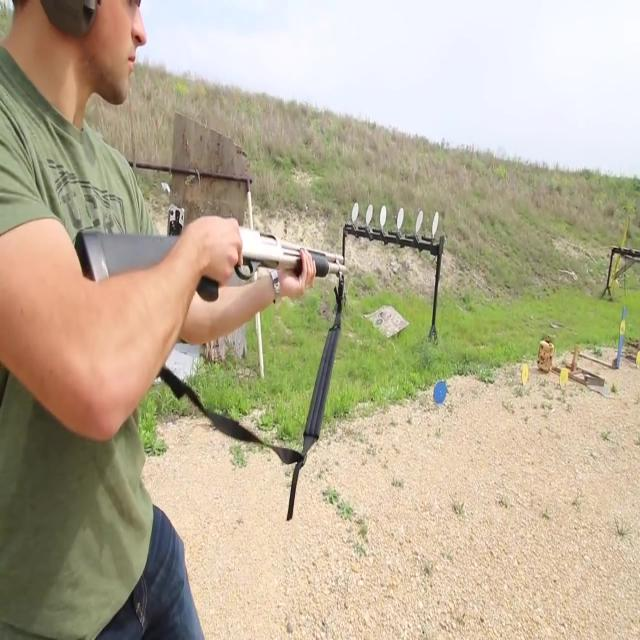Weapon: (60, 192, 375, 377)
